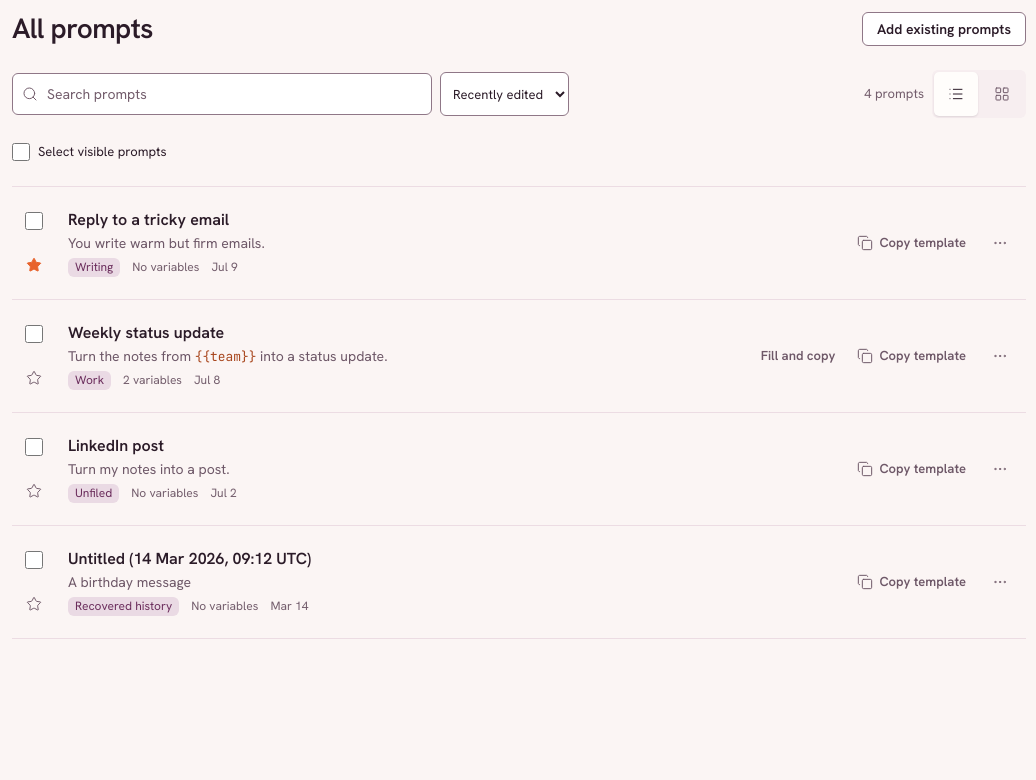
LibraryPage › keeps content recency order when favorites change organizational timestamps
Expected: the heading "All prompts" is shown, [12,12,153,46]
Click the button named "Add Weekly status update to favourites". click: (34, 378)
box: [12,356,56,400]
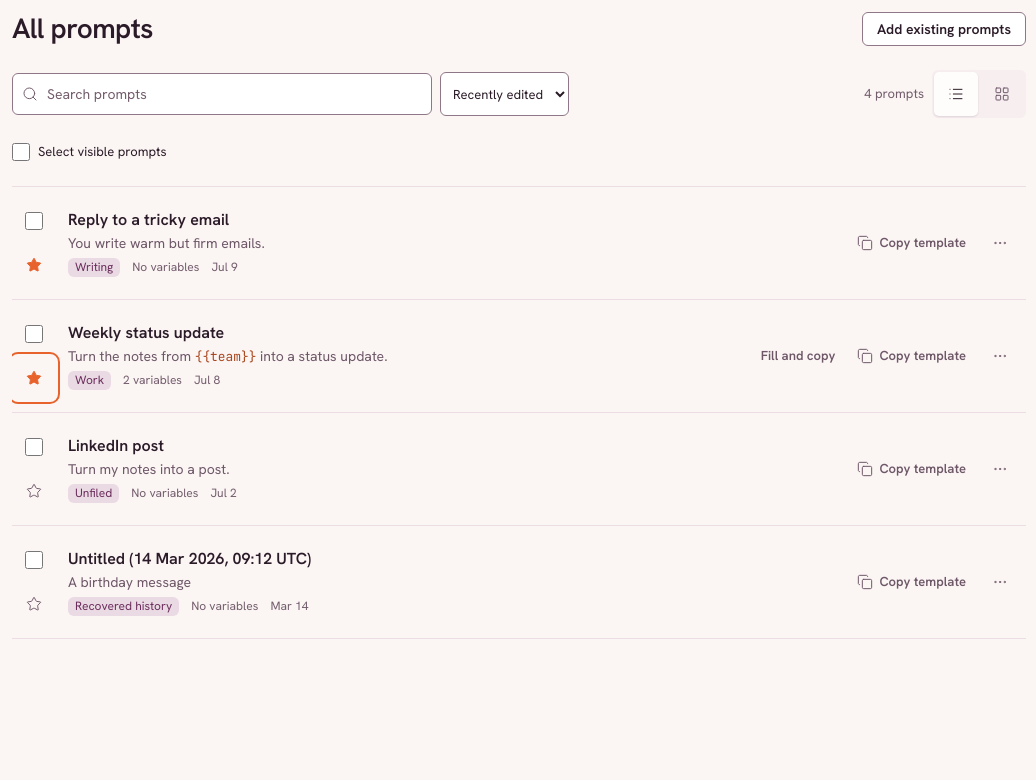
Expected: the link "Reply to a tricky email" is shown, [68,209,229,230]
Expected: the button named "Remove Weekly status update from favourites" is shown, [12,356,56,400]
